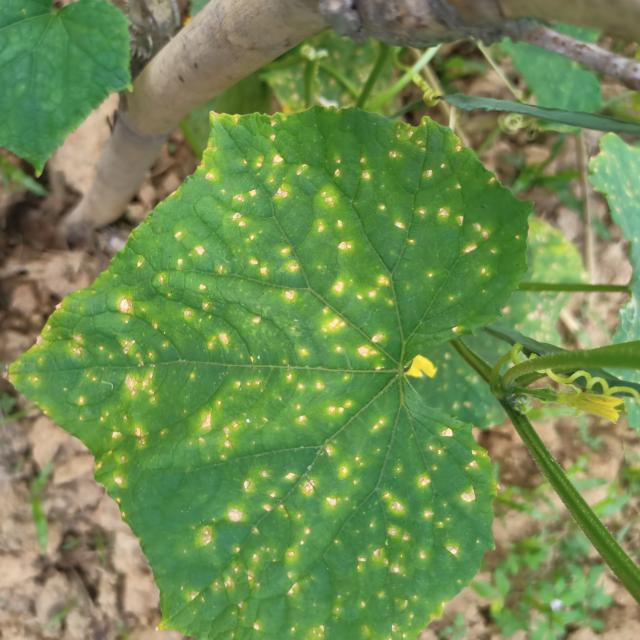disease_cucumber: (62, 117, 502, 640)
